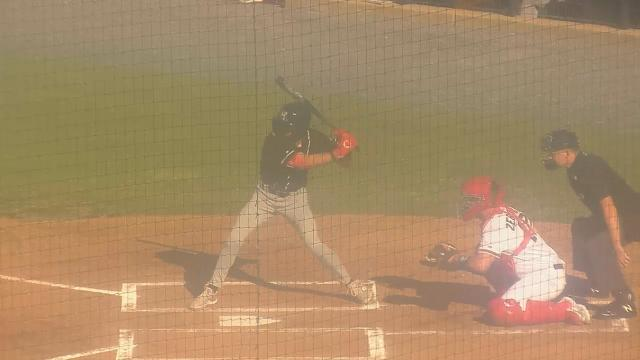baseball bat: (276, 74, 336, 132)
